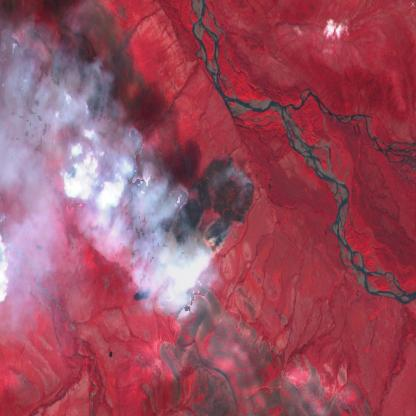fire: (171, 152, 257, 260)
